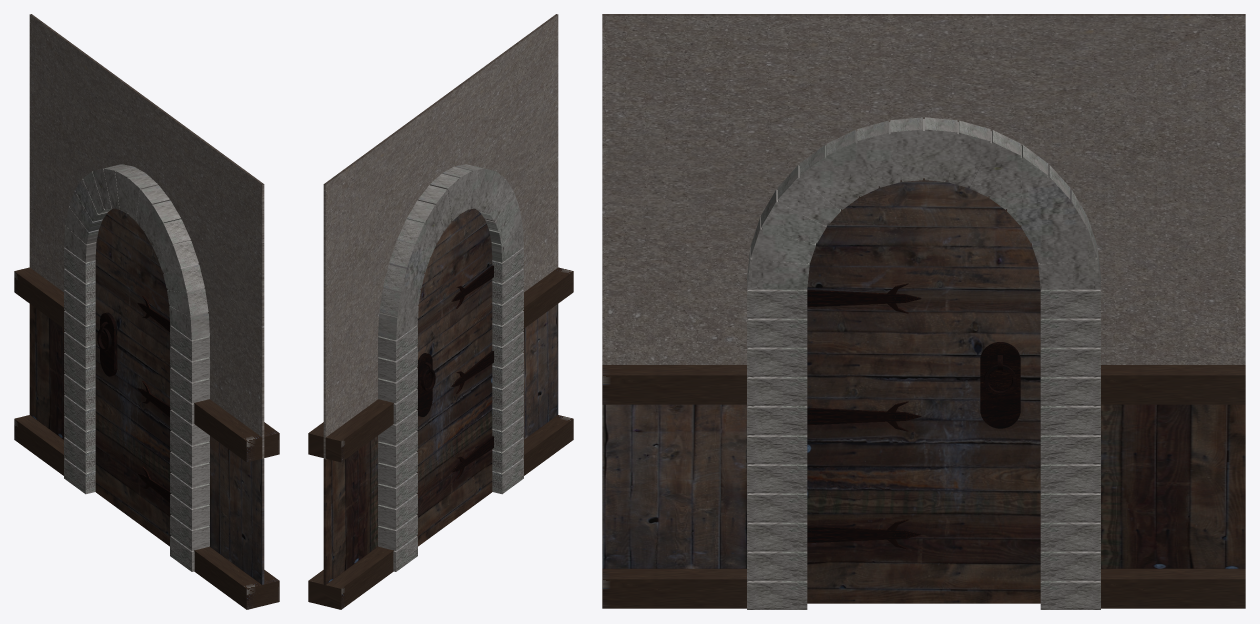
Rendered from OutdoorArchitecture_BasicWall02_Door02_NoEdges_BShortt.fbx.
3 renders of one model, left to right at view 1: azimuth 30°, elevation 25°; view 2: azimuth 150°, elevation 25°; view 3: azimuth 270°, elevation 25°, orthographic. The views are drawn at different scales.
Visible parts, largest first — view 1: OutdoorArchitecture_BasicWall02_Door02_NoEdges_BShortt; view 2: OutdoorArchitecture_BasicWall02_Door02_NoEdges_BShortt; view 3: OutdoorArchitecture_BasicWall02_Door02_NoEdges_BShortt.
Part boxes in pixels (bbox=[...]): OutdoorArchitecture_BasicWall02_Door02_NoEdges_BShortt: bbox=[14, 14, 279, 609]; OutdoorArchitecture_BasicWall02_Door02_NoEdges_BShortt: bbox=[308, 14, 573, 609]; OutdoorArchitecture_BasicWall02_Door02_NoEdges_BShortt: bbox=[602, 14, 1245, 609].
Bounding box in the file's own units: 28.44 × 300 × 300.
